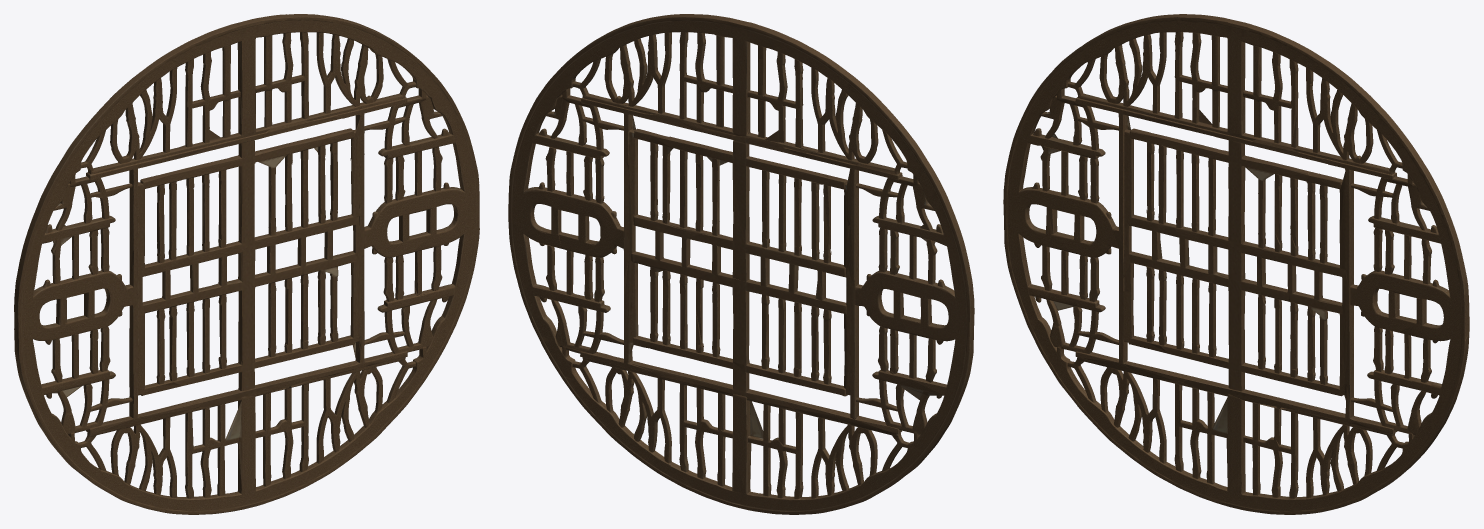
File: masa-oda.glb
3 renders of one model, left to right at view 1: azimuth 30°, elevation 25°; view 2: azimuth 150°, elevation 25°; view 3: azimuth 330°, elevation 25°, orthographic.
Parts seen in each view (by area): view 1: Mesh_0; view 2: Mesh_0; view 3: Mesh_0.
Part boxes in pixels (left/top/right/bottom): Mesh_0: left=14, top=14, right=479, bottom=514; Mesh_0: left=508, top=14, right=974, bottom=514; Mesh_0: left=1003, top=14, right=1469, bottom=514.
Size of the model in its own units: 1.9 by 1.9 by 0.0323.
Materials: 1 (1 with a texture image).
